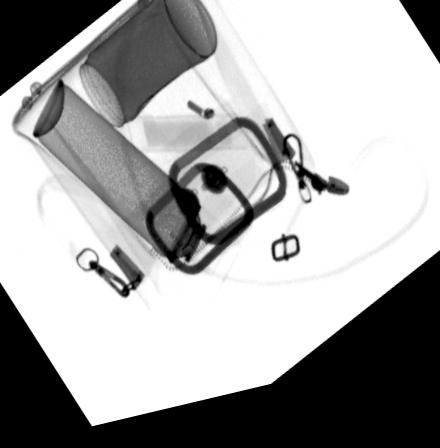Sprayer: (30, 78, 242, 309)
